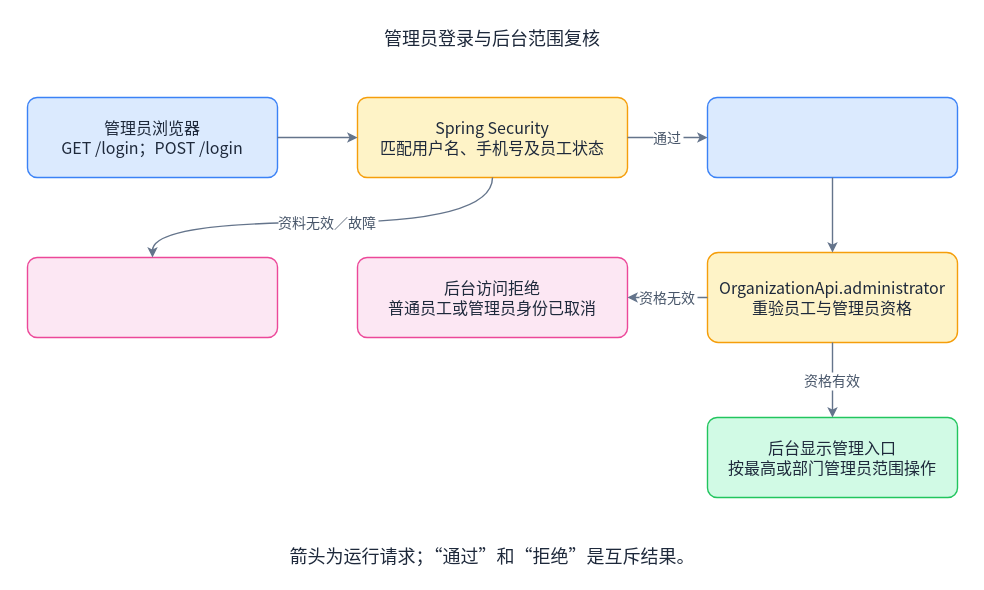
This 984x590 diagram has some shape labels left out. Each missing label, with the centre of its shape:
"后台请求 GET /api/admin/me AdminController.me 读取可信身份" belongs at (x=832, y=137).
"认证拒绝或技术故障 不建立成功登录状态" belongs at (x=152, y=297).
